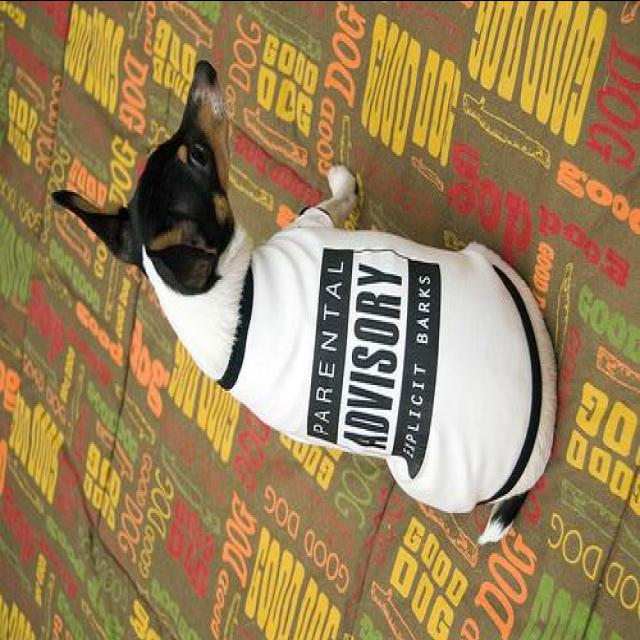toy_terrier: (51, 57, 557, 541)
